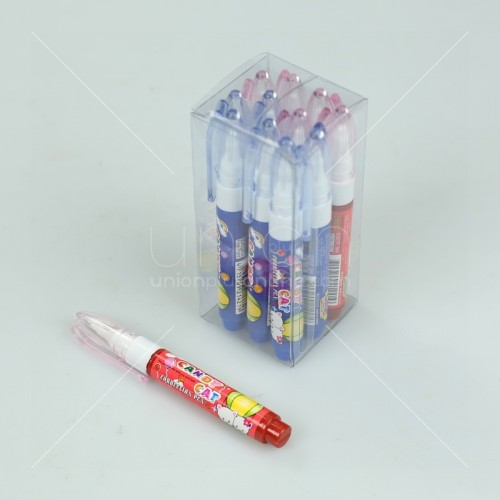Correction_fluid: (66, 307, 294, 453), (206, 103, 254, 337), (268, 135, 308, 364), (321, 105, 357, 320)
